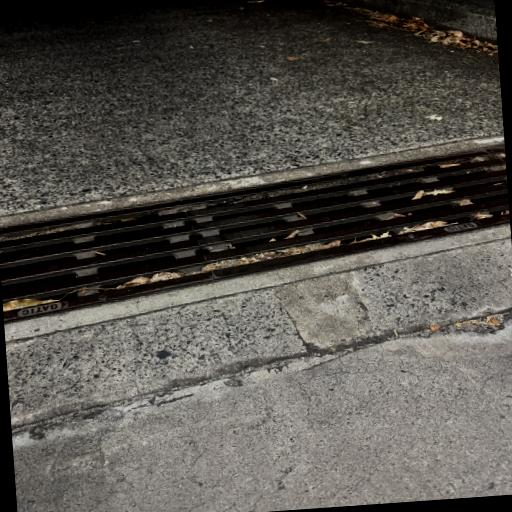gutter: (0, 145, 510, 322)
